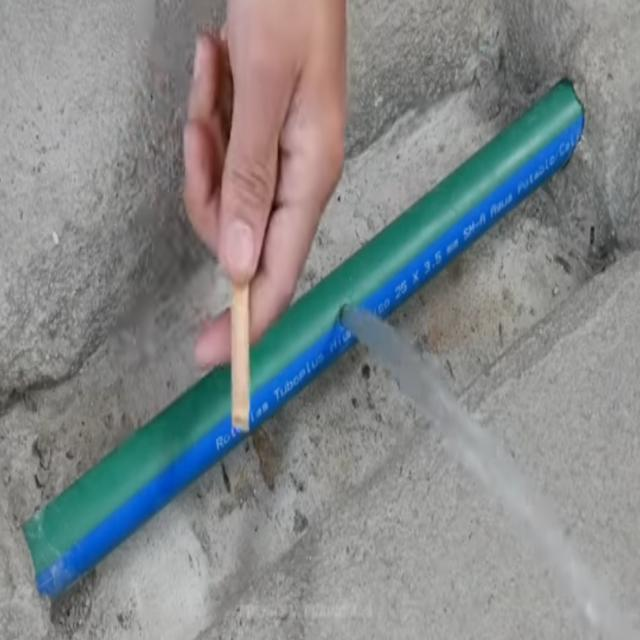leak: (341, 307, 640, 638)
